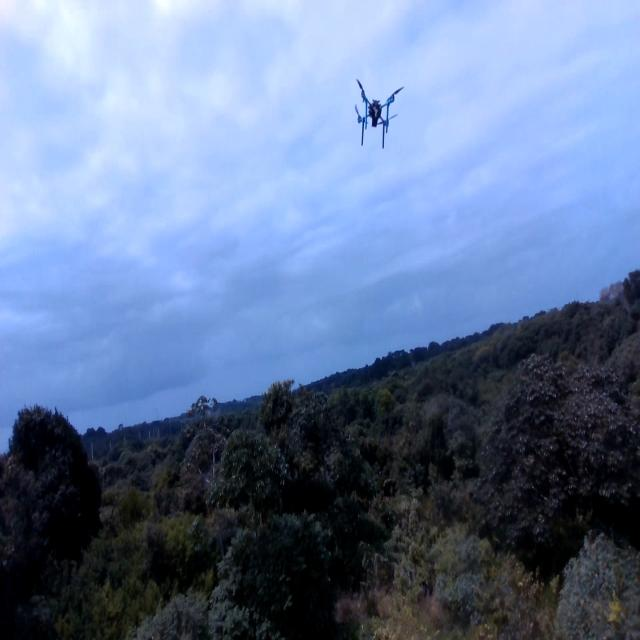-uav-: (346, 70, 407, 157)
